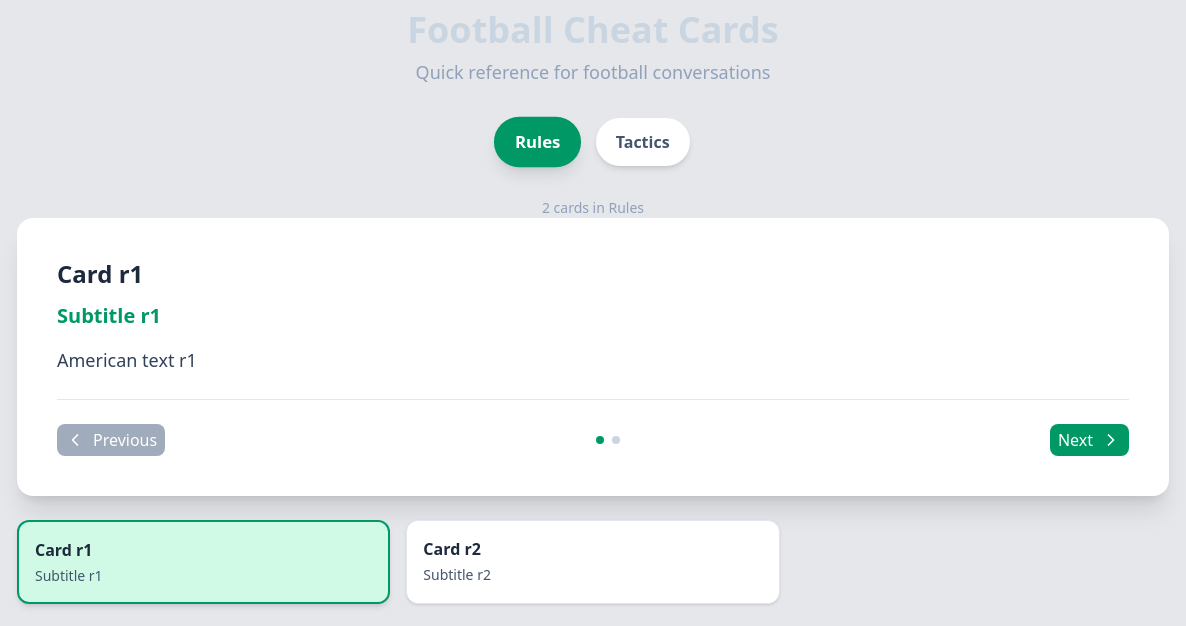
Test case: CheatCardsPage › navigation › jumps to a card picked from the preview grid
Step 1. Click the text "Subtitle r2" → (457, 575), box [423,565,491,584]
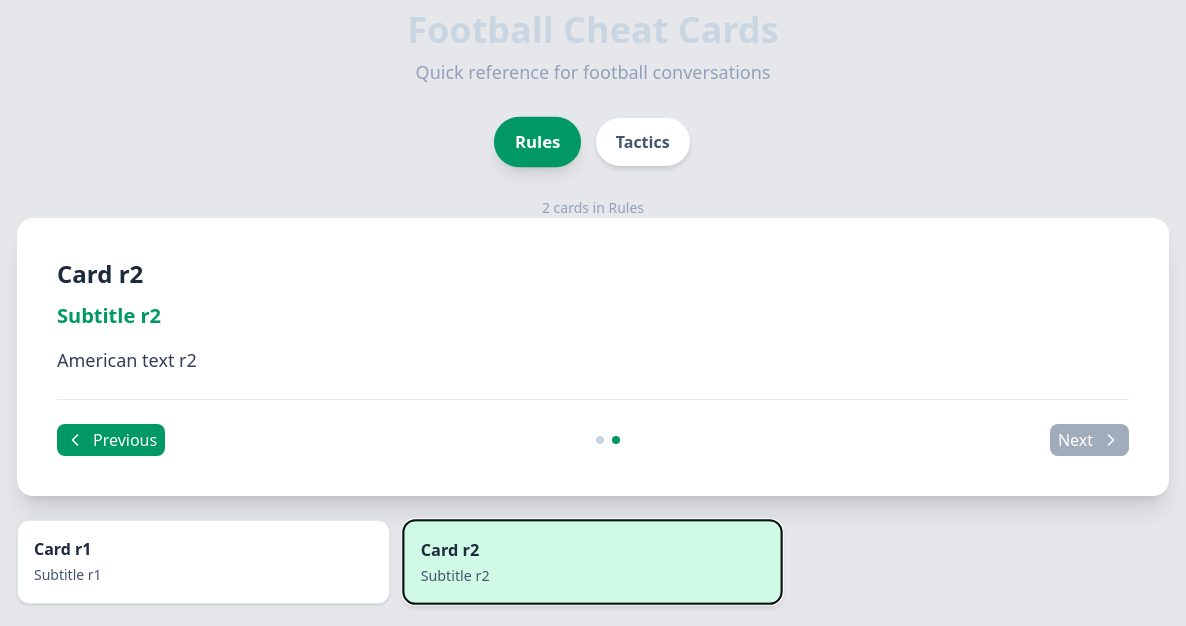
expect the text "American text r2" is shown: met, box [57,348,197,372]
